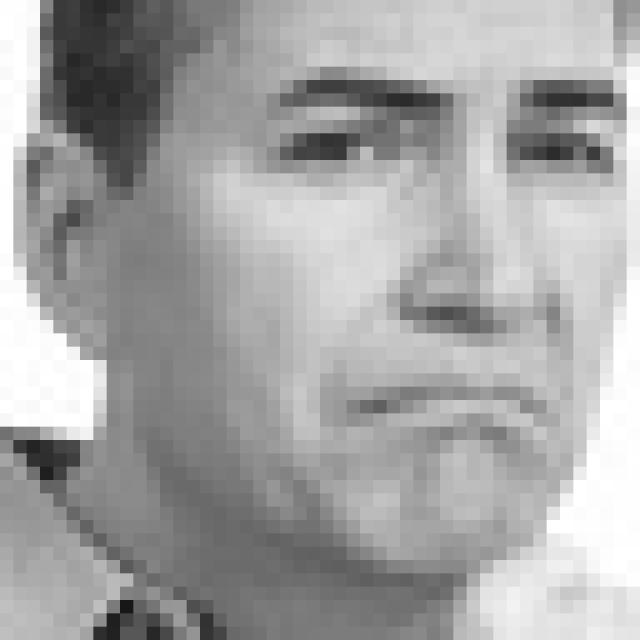sad: (272, 65, 622, 472)
